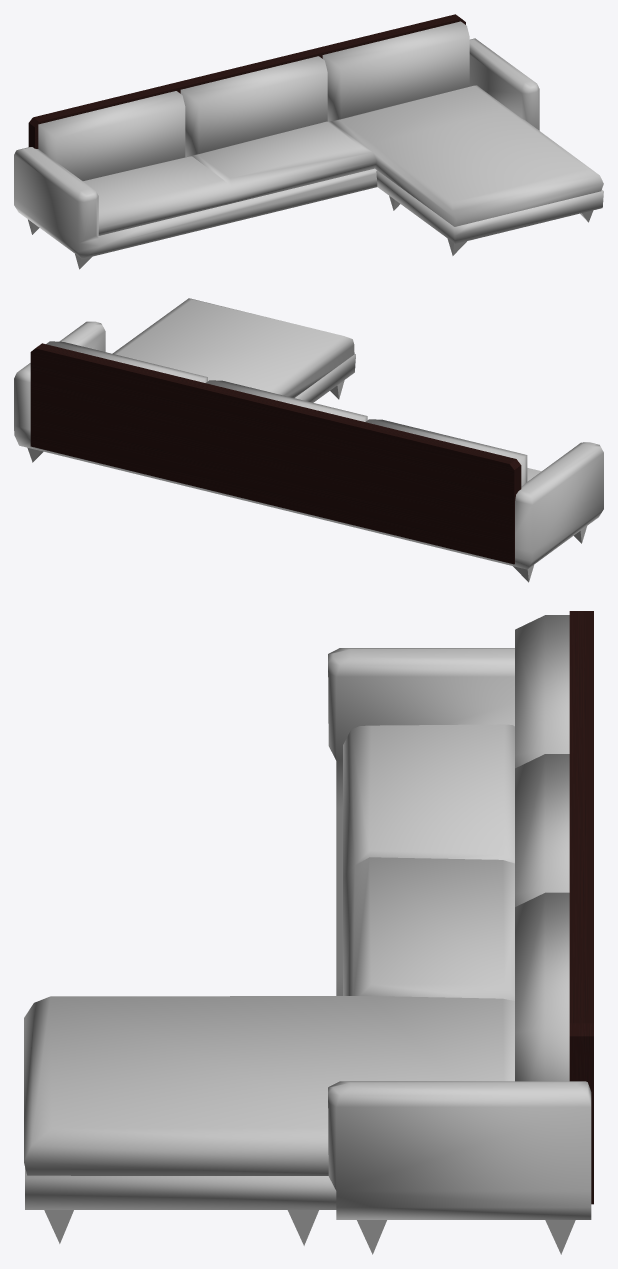
The model's file is Chaise_Sofa_A_17.FBX.
3 views of the same model, one above another, from view 1: azimuth 30°, elevation 25°; view 2: azimuth 150°, elevation 25°; view 3: azimuth 270°, elevation 25° (orthographic). The views are drawn at different scales.
Visible parts, largest first — view 1: Chaise_Sofa_A; view 2: Chaise_Sofa_A; view 3: Chaise_Sofa_A.
Part boxes in pixels (bbox=[...]): Chaise_Sofa_A: bbox=[14, 14, 603, 269]; Chaise_Sofa_A: bbox=[14, 298, 603, 582]; Chaise_Sofa_A: bbox=[24, 611, 593, 1254].
Size of the model in its own units: 685 by 157 by 366.
